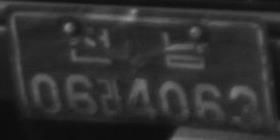0: (29, 71, 62, 114), (157, 79, 190, 122)
3: (227, 82, 263, 128)
4: (125, 76, 157, 119)
6: (191, 81, 227, 126), (64, 73, 98, 117)
라: (98, 77, 125, 117)
전남_D: (66, 22, 207, 71)
